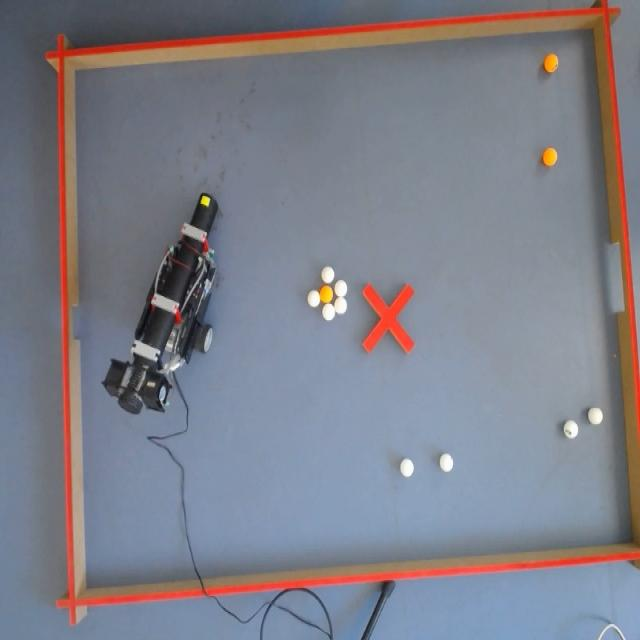orange-golf-balls: (544, 54, 558, 73), (544, 148, 558, 166), (321, 285, 333, 303)
robot: (102, 193, 218, 416)
robot-front: (191, 193, 217, 233)
white-golf-balls: (588, 408, 603, 426), (400, 458, 414, 477), (564, 420, 578, 439), (334, 297, 347, 315), (440, 454, 453, 472), (321, 267, 335, 283), (308, 290, 320, 308), (322, 304, 335, 320), (335, 280, 347, 296)
